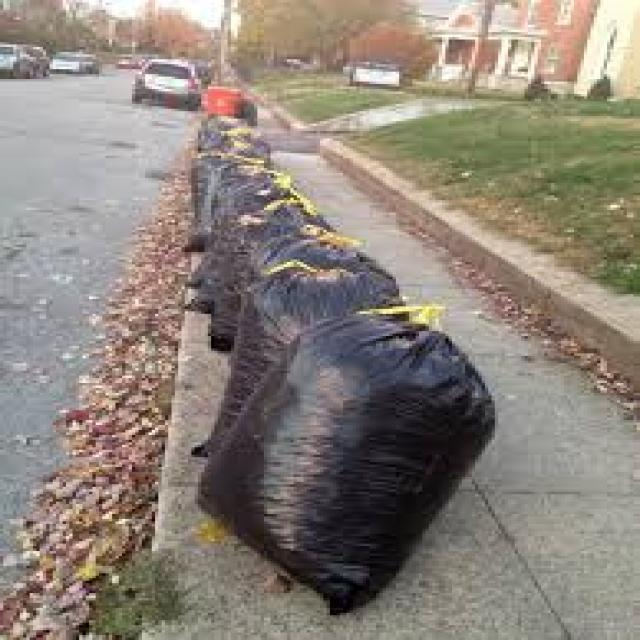Trashbag: (242, 319, 492, 587), (246, 264, 406, 339), (225, 231, 375, 277), (234, 195, 336, 233), (219, 160, 295, 198), (202, 138, 268, 164)
